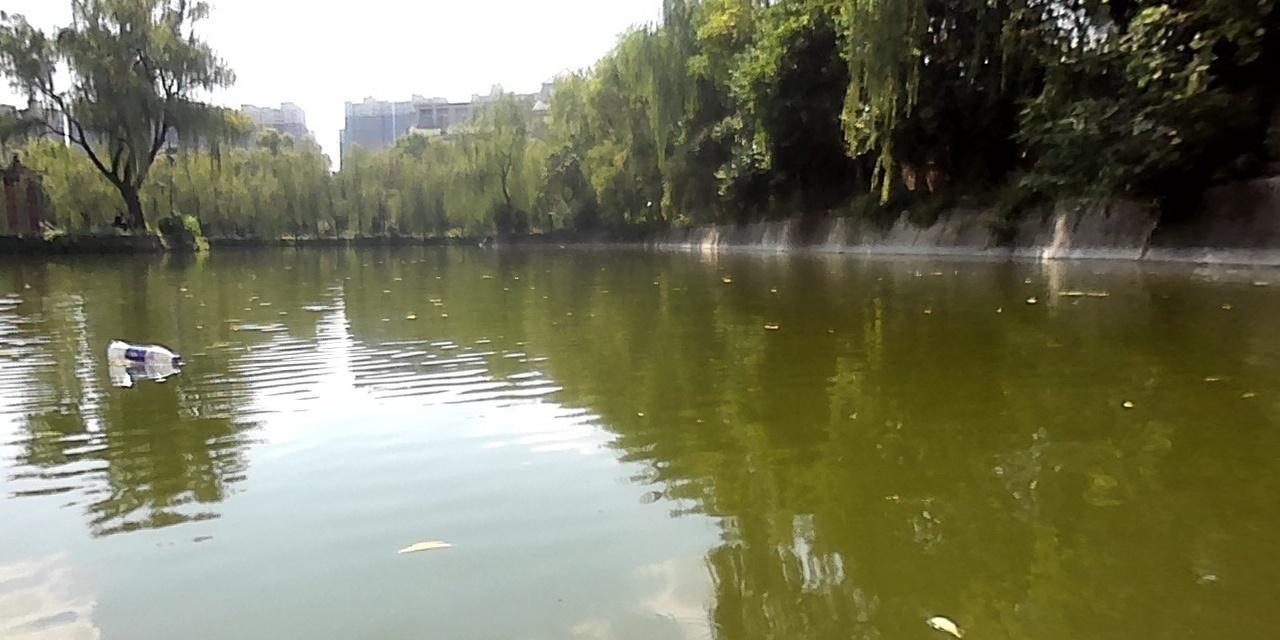bottle: (104, 339, 185, 366)
